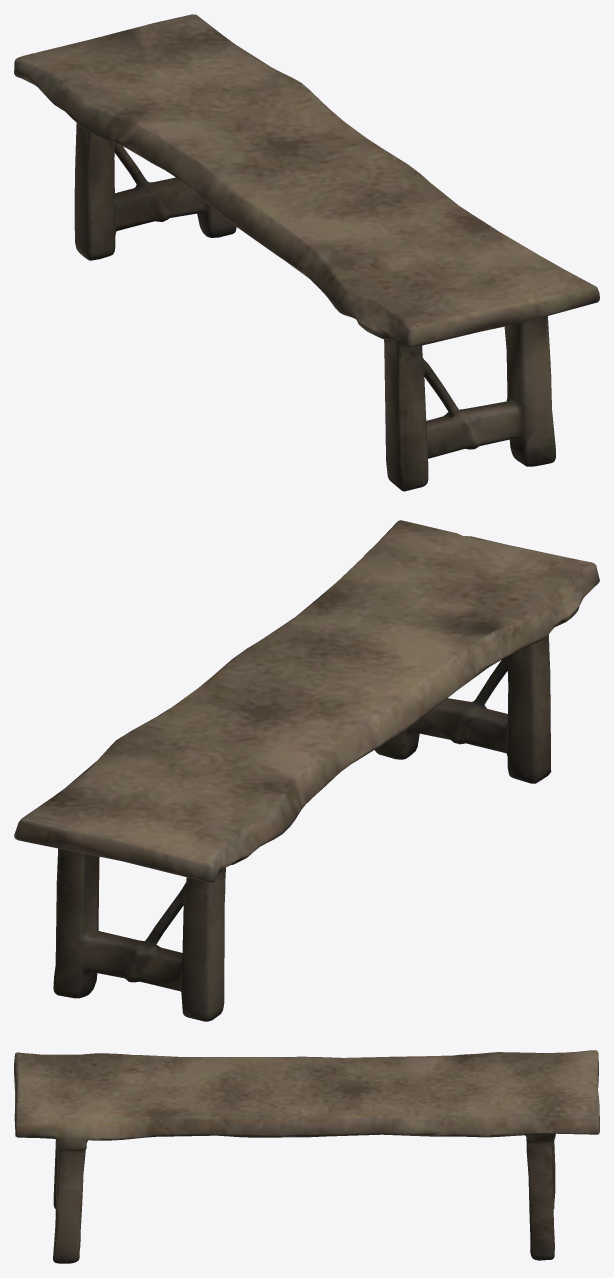
Rendered from rustic-wood-banquet-table-v003.glb.
3 renders of one model, top to bottom at view 1: azimuth 30°, elevation 25°; view 2: azimuth 150°, elevation 25°; view 3: azimuth 270°, elevation 25°, orthographic. The views are drawn at different scales.
Visible parts, largest first — view 1: rustic-wood-banquet-table; view 2: rustic-wood-banquet-table; view 3: rustic-wood-banquet-table.
Boxes of the visible parts, x1,y1,x2,y2 form: rustic-wood-banquet-table: (14, 14, 599, 491); rustic-wood-banquet-table: (14, 520, 599, 1021); rustic-wood-banquet-table: (14, 1050, 599, 1263).
Size of the model in its own units: 0.8483 by 0.7689 by 2.72.
1 material, 1 textured.
